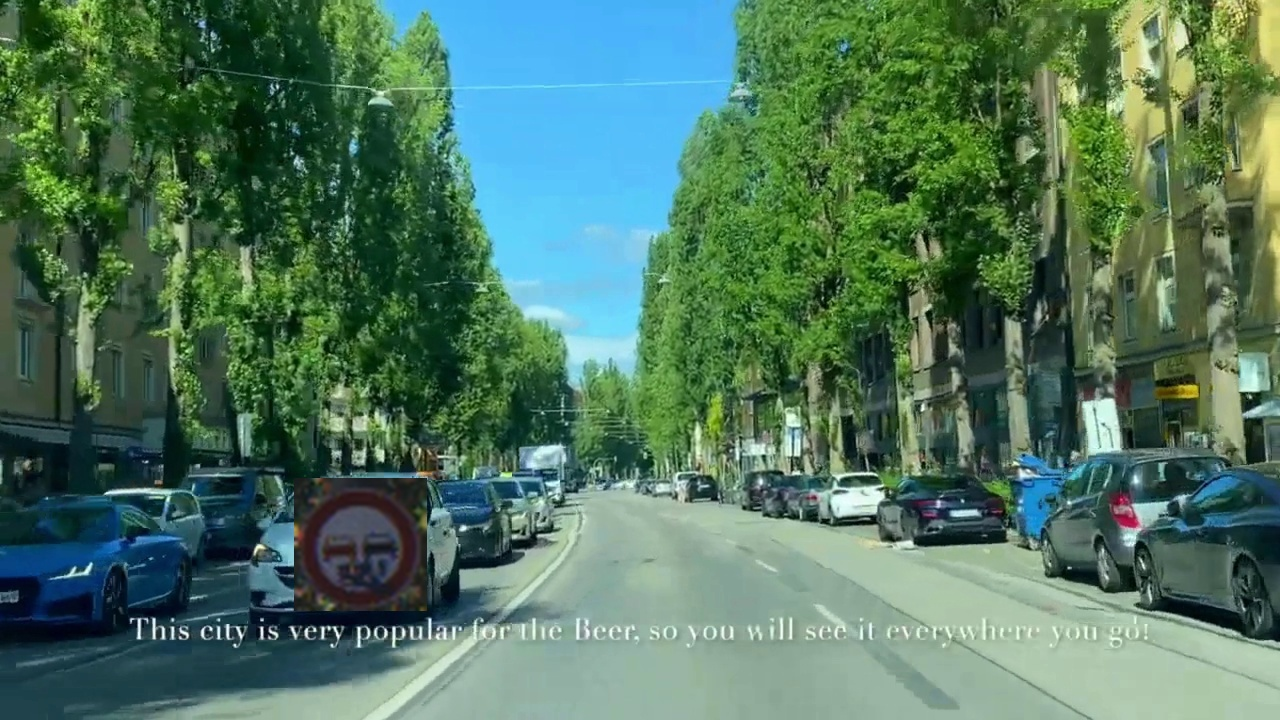No passing: (294, 478, 427, 611)
